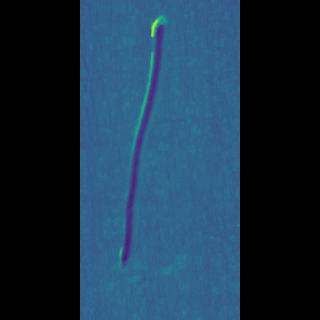Loch: (138, 13, 165, 274)
